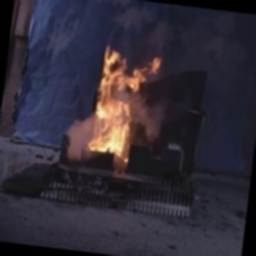fire: (77, 41, 171, 173)
